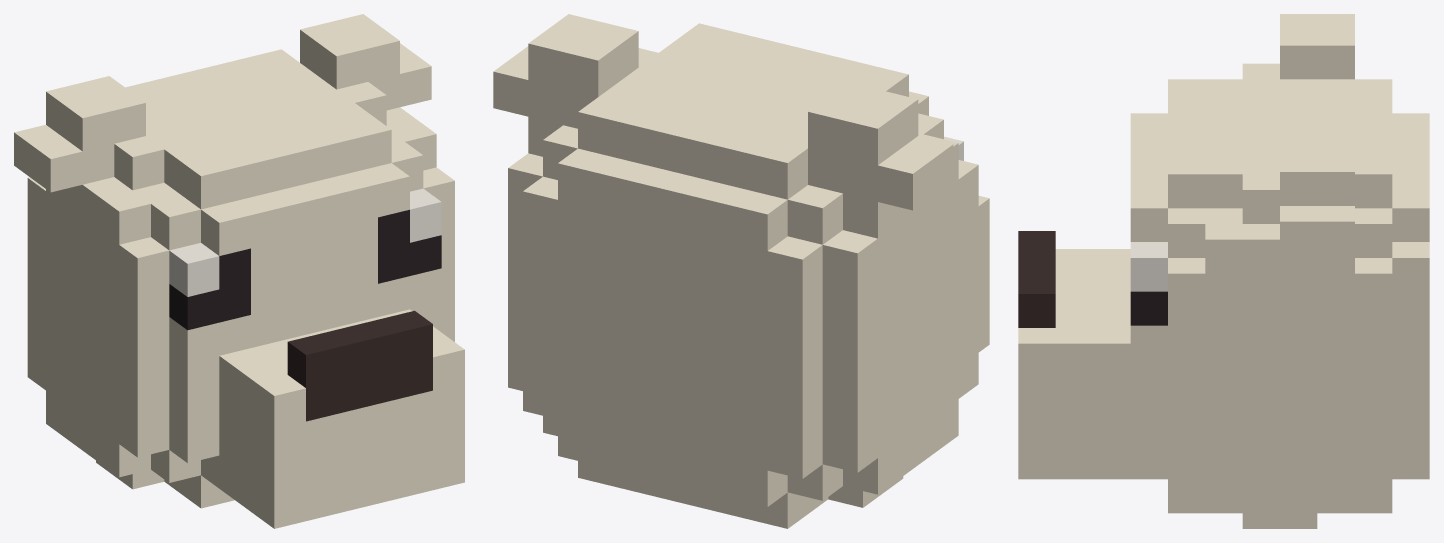
File: polar_bear__head.glb
3 views of the same model, side by side, from view 1: azimuth 30°, elevation 25°; view 2: azimuth 150°, elevation 25°; view 3: azimuth 270°, elevation 25° (orthographic). The views are drawn at different scales.
Visible parts, largest first — view 1: polar_bear__head; view 2: polar_bear__head; view 3: polar_bear__head.
Part boxes in pixels (x1,y1,x2,y2): polar_bear__head: (14,14,464,528); polar_bear__head: (493,14,989,528); polar_bear__head: (1018,14,1429,528).
Bounding box in the file's own units: 1.2 × 1.1 × 1.1.
1 material, 1 textured.
